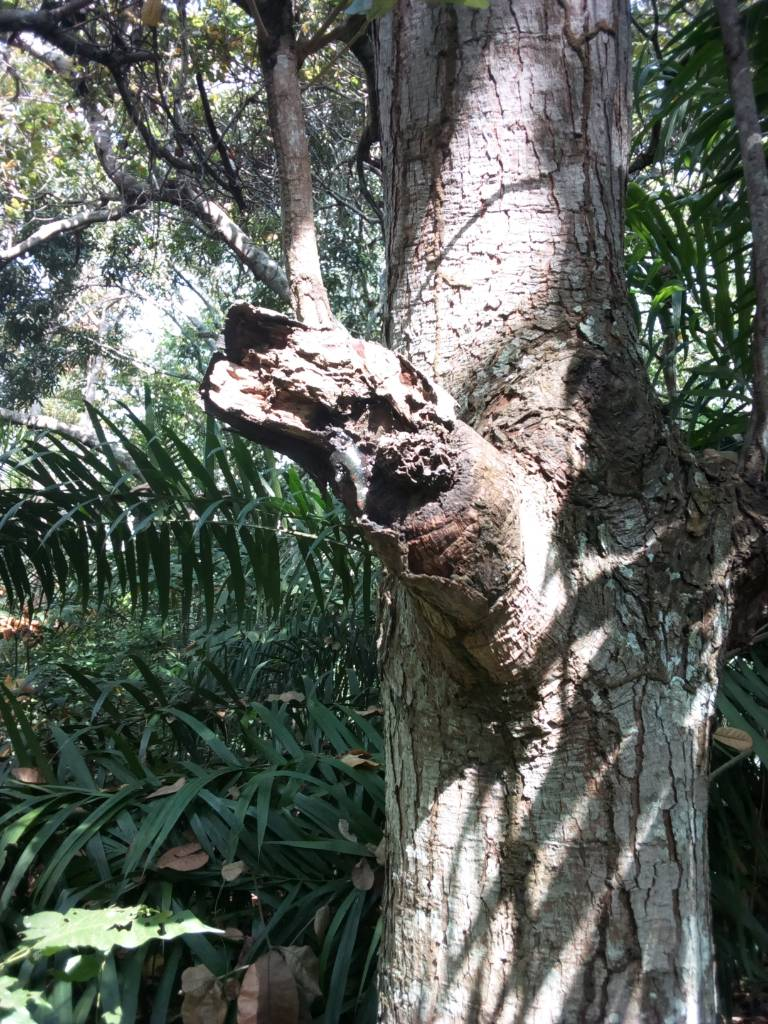Termites: (210, 305, 460, 489)
